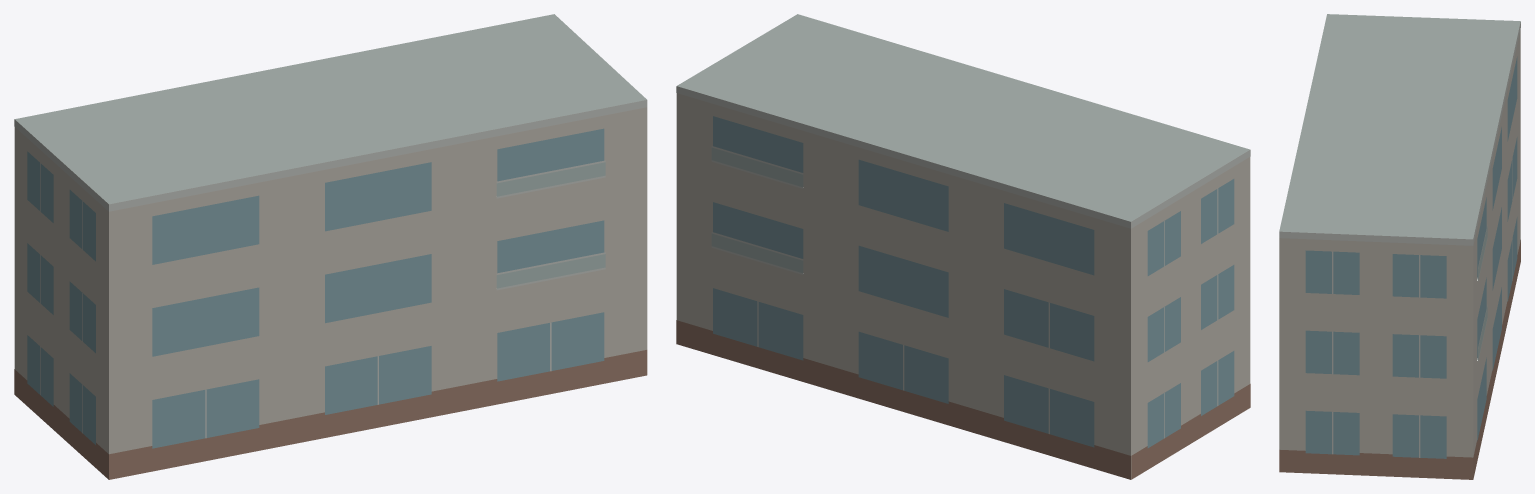
Rendered from survey-upis-32828384.glb.
3 renders of one model, left to right at view 1: azimuth 30°, elevation 25°; view 2: azimuth 150°, elevation 25°; view 3: azimuth 270°, elevation 25°, orthographic. The views are drawn at different scales.
Visible parts, largest first — view 1: survey-upis-32828384.tmp; view 2: survey-upis-32828384.tmp; view 3: survey-upis-32828384.tmp.
Part boxes in pixels (<box>): survey-upis-32828384.tmp: <box>14,14,647,479</box>; survey-upis-32828384.tmp: <box>676,14,1250,479</box>; survey-upis-32828384.tmp: <box>1279,14,1520,479</box>.
Size of the model in its own units: 18.41 by 9.15 by 8.34.
